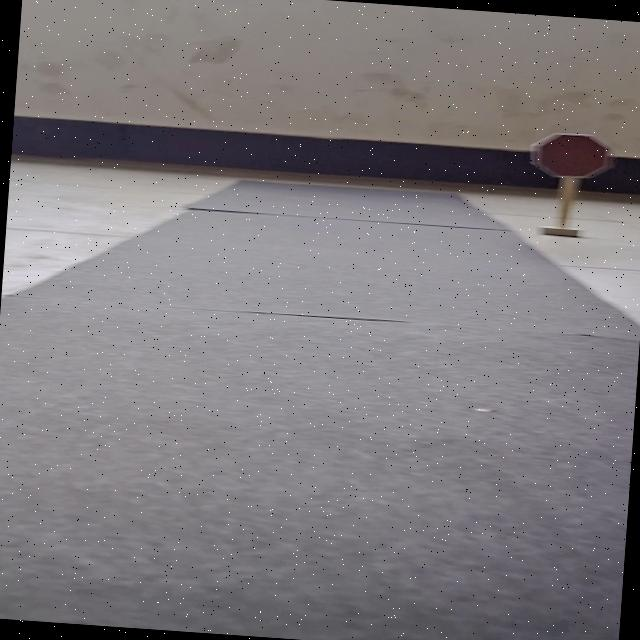Stop: (526, 130, 616, 182)
